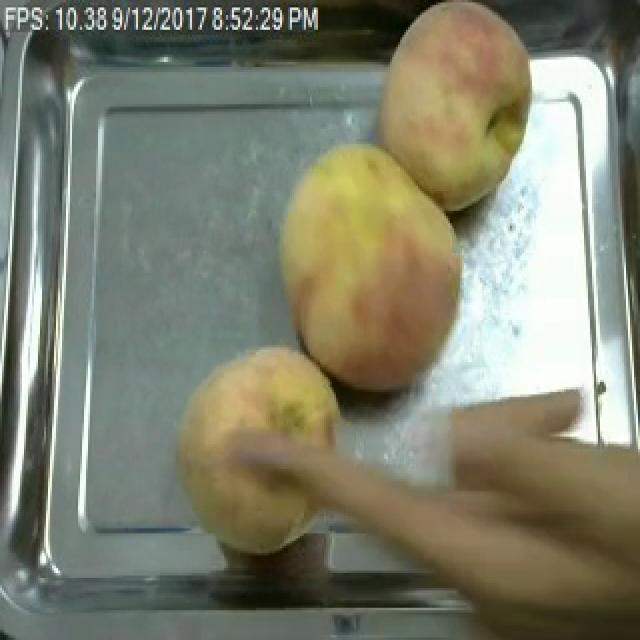Fruit: (418, 380, 640, 638), (266, 134, 476, 404), (168, 335, 354, 565), (366, 0, 544, 221)
